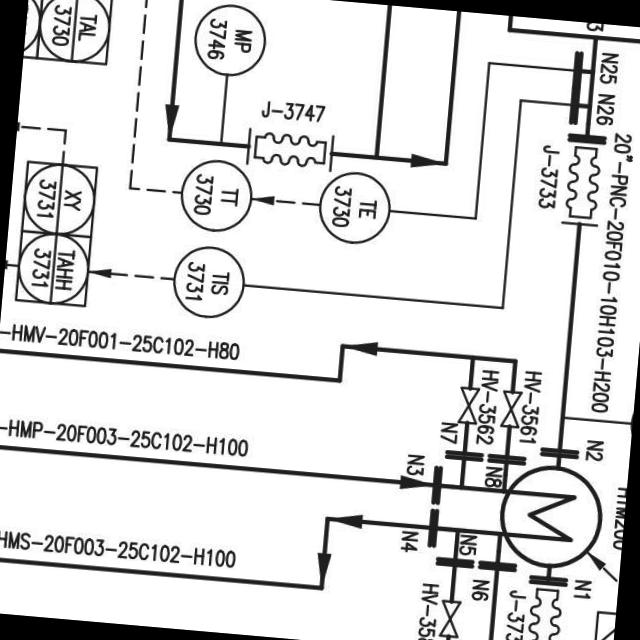EJ: (238, 122, 340, 176), (555, 136, 611, 232), (516, 578, 568, 640)
GV: (498, 385, 528, 434), (453, 381, 484, 426), (434, 594, 462, 640)
HE: (495, 462, 609, 570)
